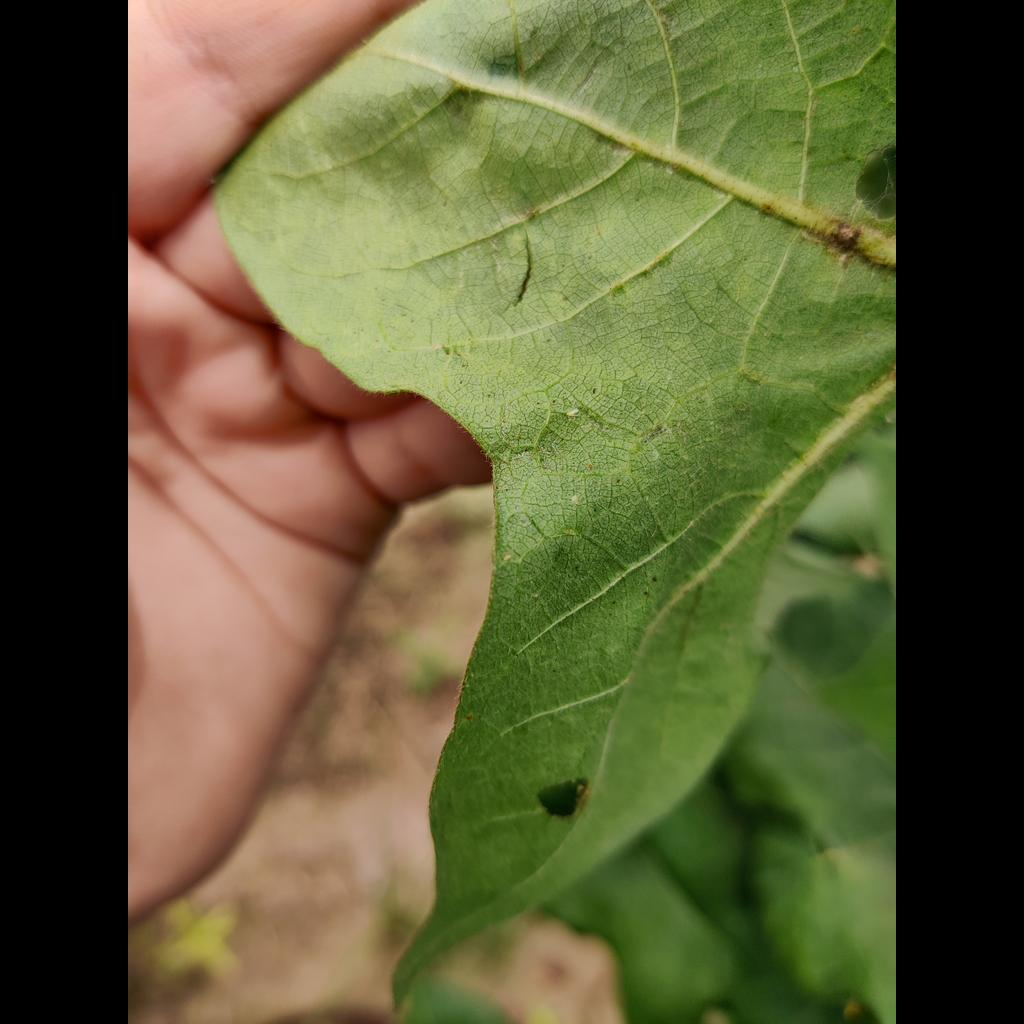adult: (566, 408, 579, 418)
nymph: (570, 493, 581, 504), (502, 553, 512, 562), (665, 166, 673, 175)
